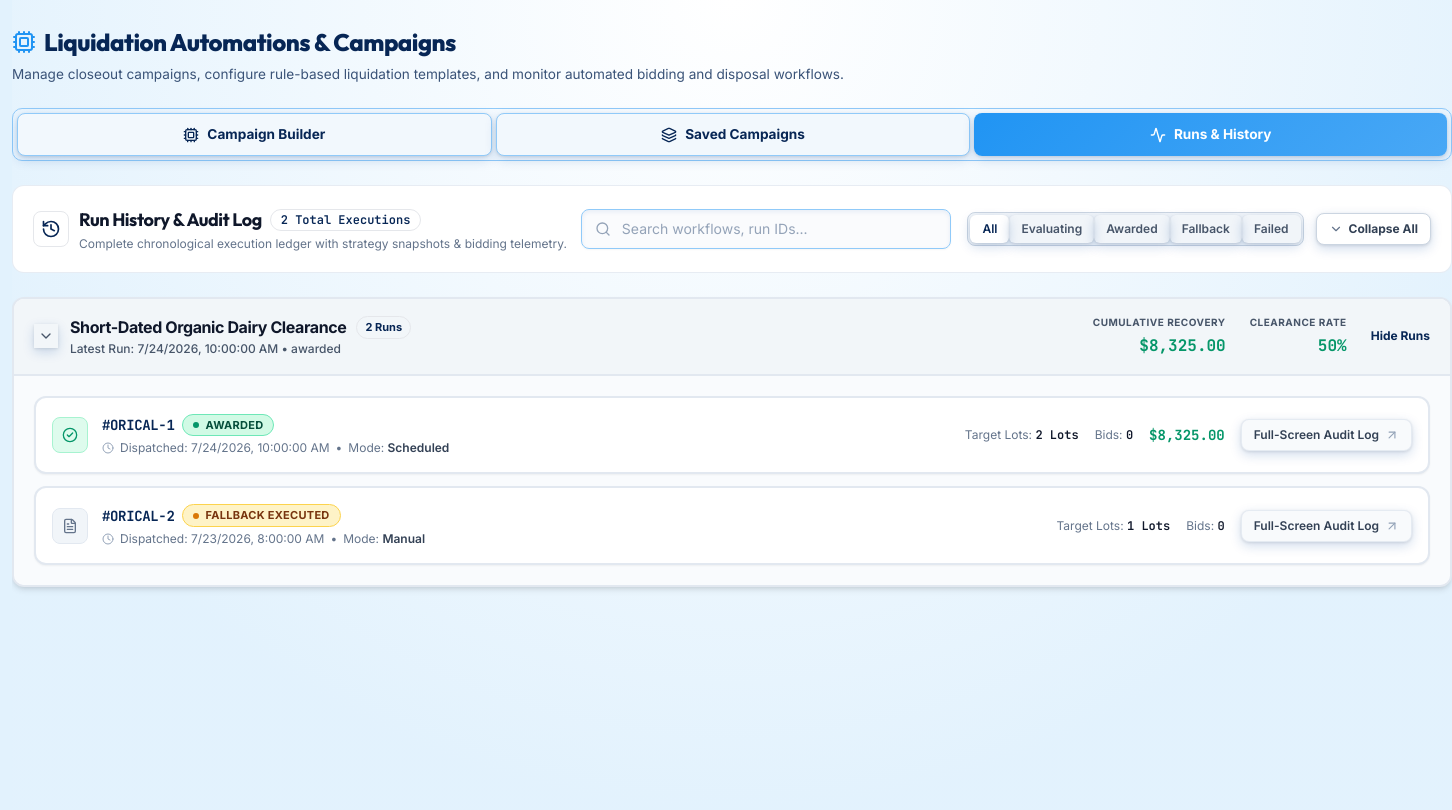
Test: TDD Suite: Unified Collapsible Workflow Execution Cards & Section Controls › Test 2: should toggle individual workflow card collapse state when clicking collapse/expand toggle button
The width and height of the screenshot is (1452, 810).
Check: the number of elements with test id "execution-run-row" is 2, box [34,396,1430,474]; [34,486,1430,565]
Check: the text "#ORICAL-1" is shown, box [102,415,174,435]
Note: Click collapse button on the workflow card
Click the button named "Collapse workflow" at x=46, y=336, box [34,324,58,348]
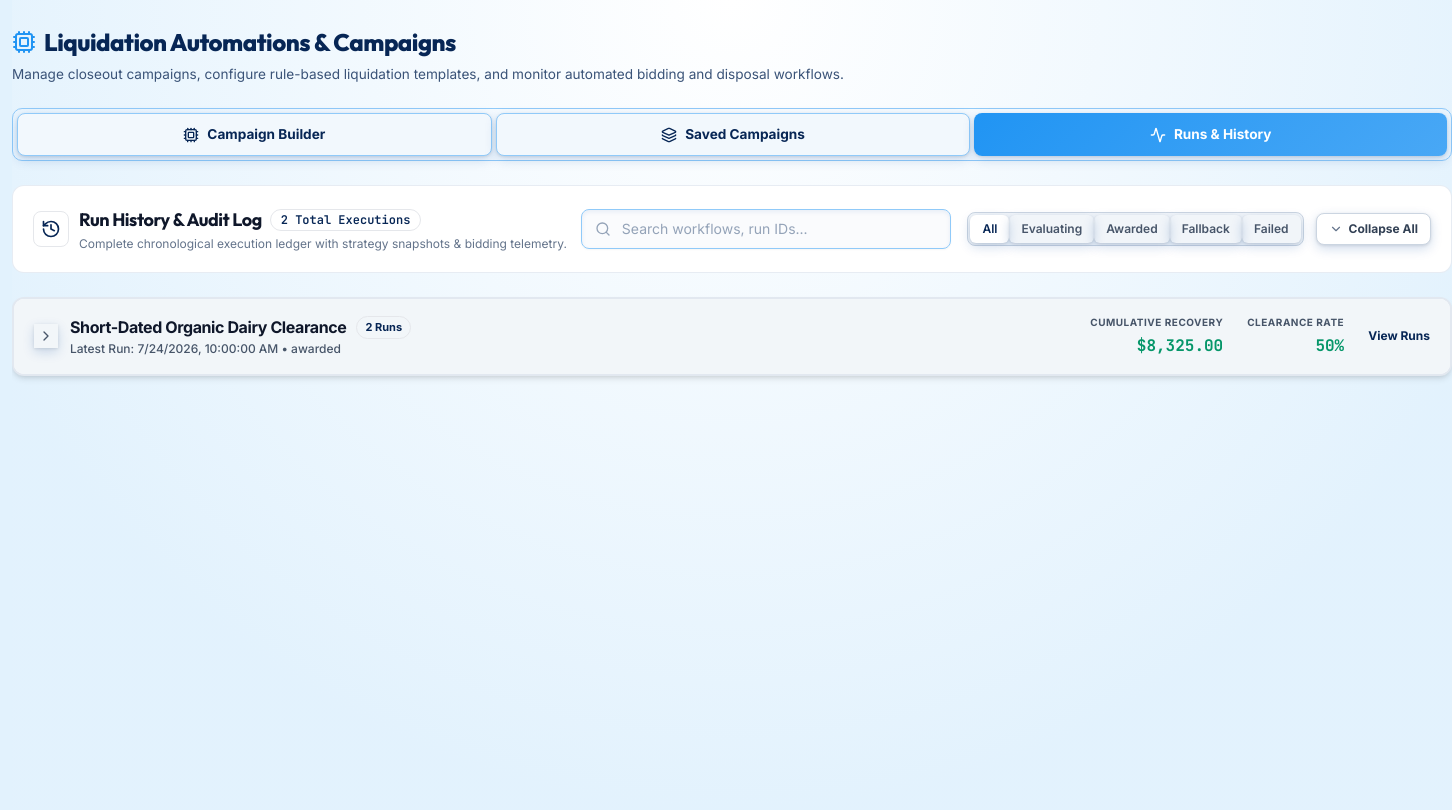
Check: the element with test id "execution-run-row" is gone
Check: the text "#ORICAL-1" is gone
Note: Click expand button to restore
Click the button named "Expand workflow" at x=46, y=336, box [34,324,58,348]
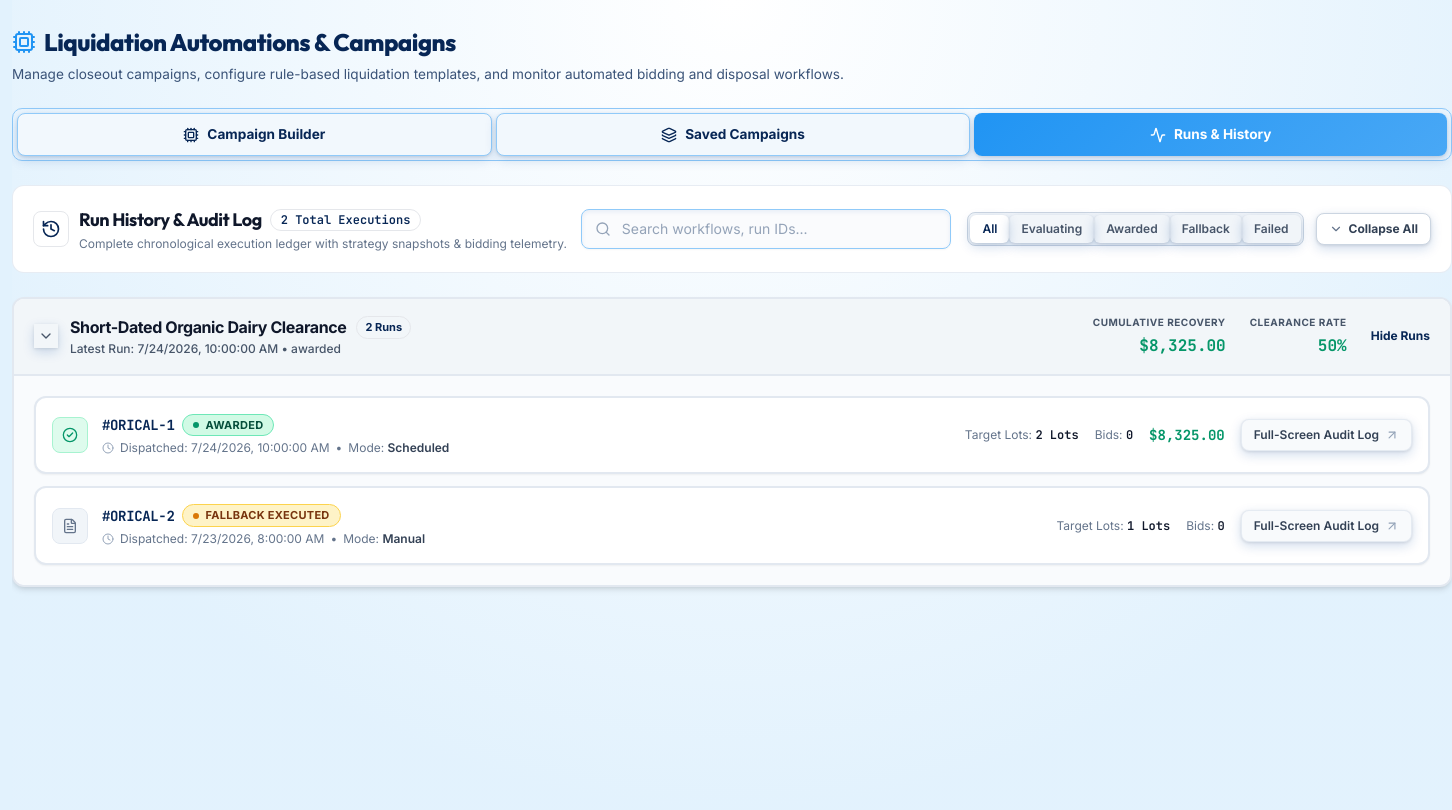
Check: the number of elements with test id "execution-run-row" is 2, box [34,396,1430,474]; [34,486,1430,565]
Check: the text "#ORICAL-1" is shown, box [102,415,174,435]
